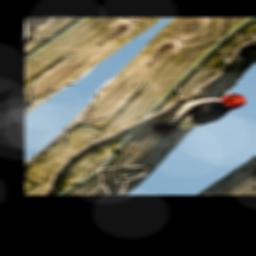Woodpecker: (137, 77, 251, 151)
